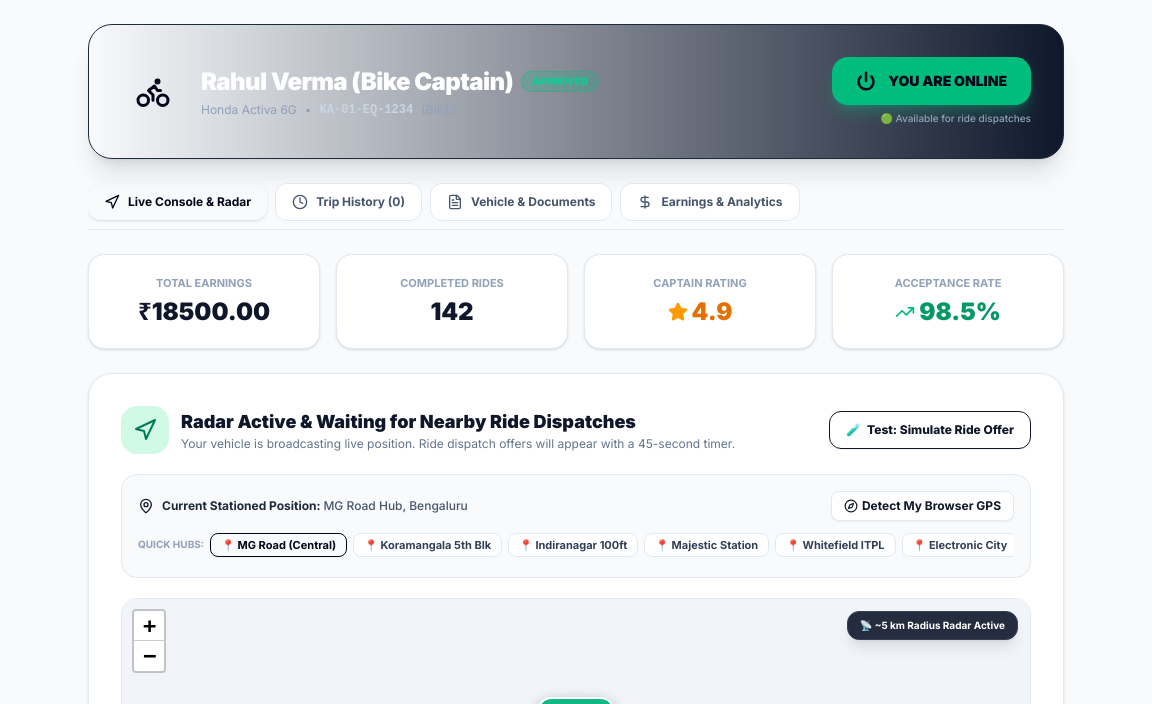
Test: CaptainDashboardPage Tests › switches between tabs cleanly
This screenshot has width=1152, height=704.
Switch to Vehicle & Documents
Click the button "Vehicle & Documents". click: (521, 202)
box: [430,183,612,221]
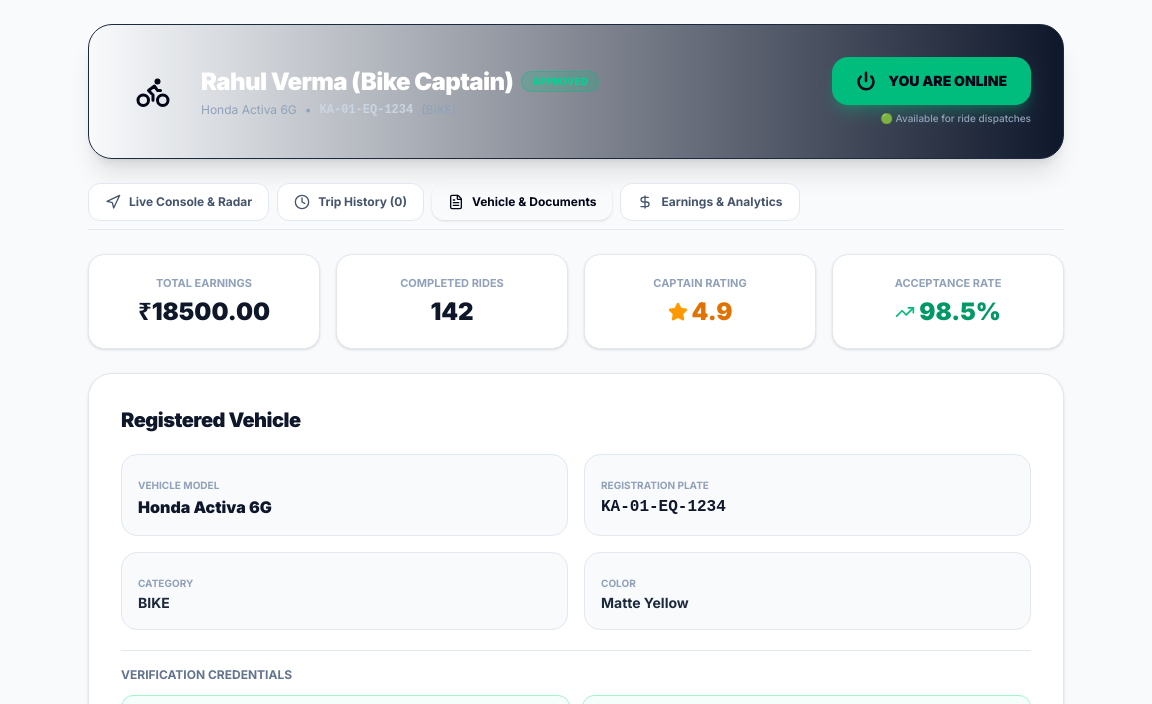
expect the heading "Registered Vehicle" is shown: met, box [121,408,301,432]
Switch to Earnings & Analytics
Click the button "Earnings & Analytics". click: (710, 202)
box: [620,183,800,221]
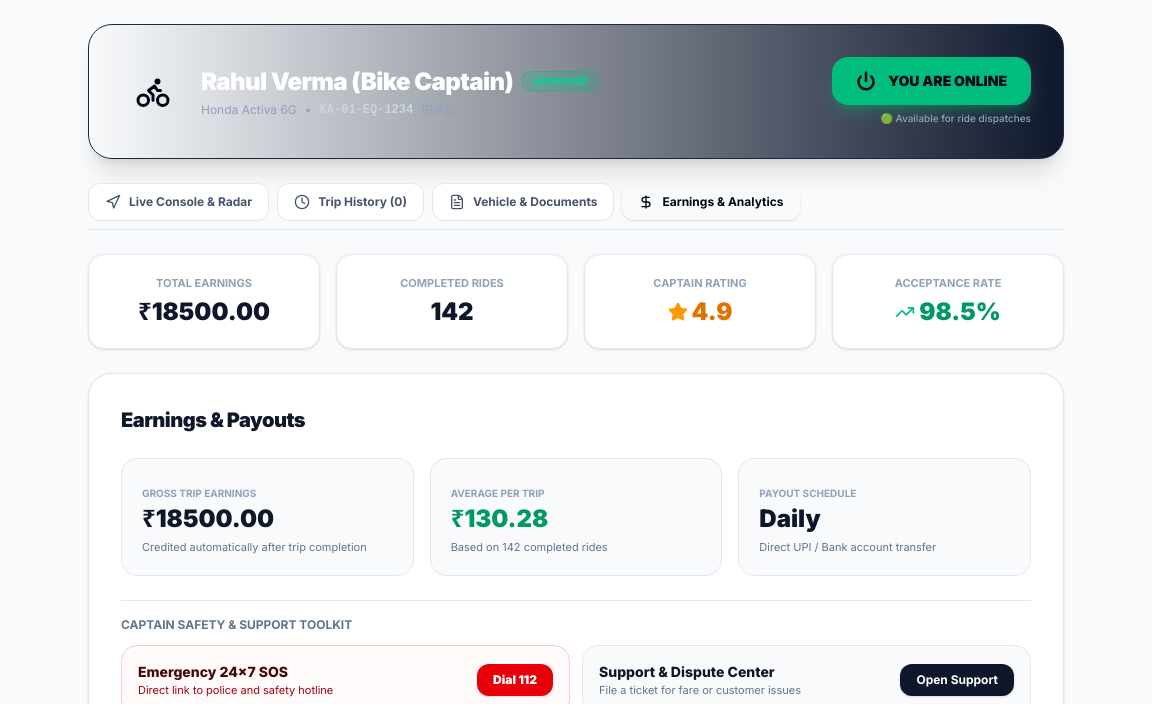
expect the heading "Earnings & Payouts" is shown: met, box [121,408,305,432]
expect the text "Emergency 24x7 SOS" is shown: met, box [138,663,288,680]
Switch to Trip History
Click the button "Trip History (0)". click: (351, 202)
box: [277,183,424,221]
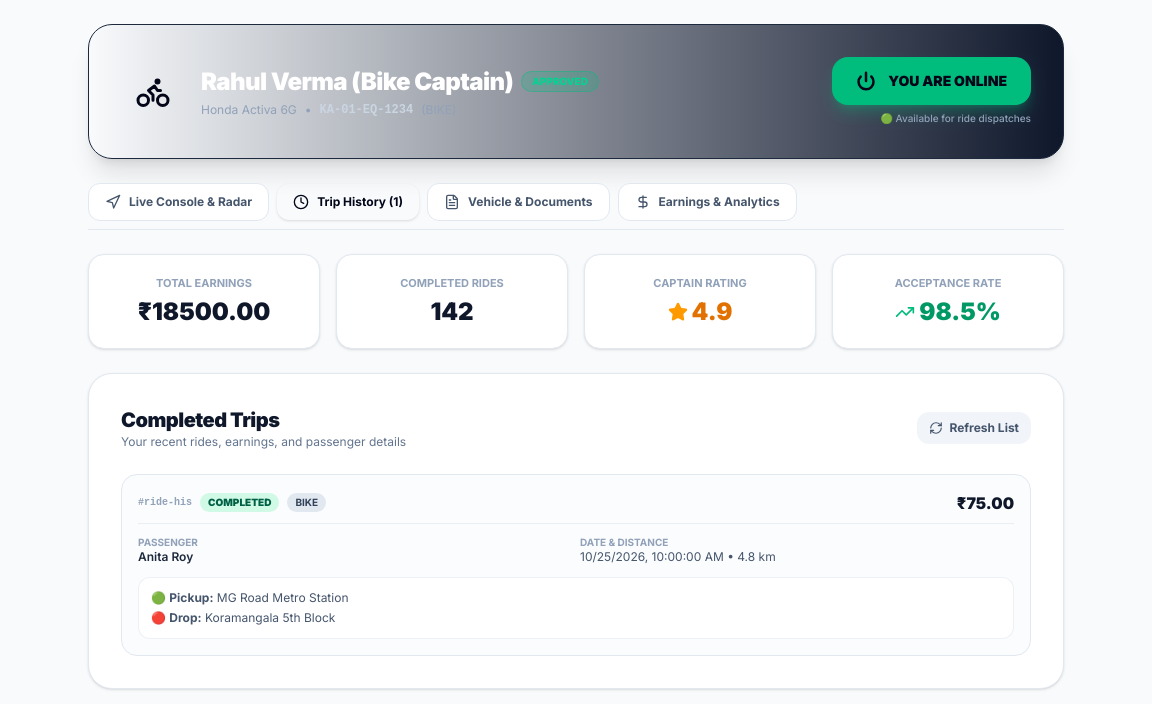
expect the heading "Completed Trips" is shown: met, box [121,408,280,432]
